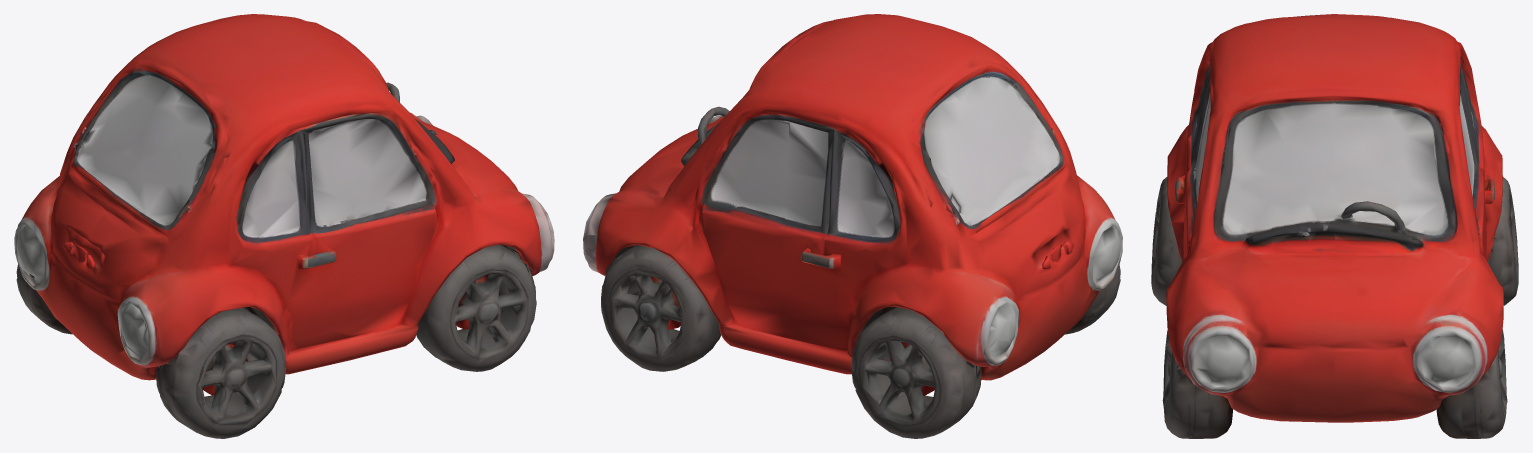
File: car.glb
3 renders of one model, left to right at view 1: azimuth 30°, elevation 25°; view 2: azimuth 150°, elevation 25°; view 3: azimuth 270°, elevation 25°, orthographic. The views are drawn at different scales.
Parts seen in each view (by area): view 1: tripo_node_7ecb549f-8450-4556-a1d0-29b2ae639a69; view 2: tripo_node_7ecb549f-8450-4556-a1d0-29b2ae639a69; view 3: tripo_node_7ecb549f-8450-4556-a1d0-29b2ae639a69.
Boxes of the visible parts, x1,y1,x2,y2 form: tripo_node_7ecb549f-8450-4556-a1d0-29b2ae639a69: (14, 14, 554, 438); tripo_node_7ecb549f-8450-4556-a1d0-29b2ae639a69: (583, 14, 1122, 438); tripo_node_7ecb549f-8450-4556-a1d0-29b2ae639a69: (1151, 14, 1518, 438).
Bounding box in the file's own units: 0.9997 × 0.6935 × 0.7247.
1 material, 1 textured.
